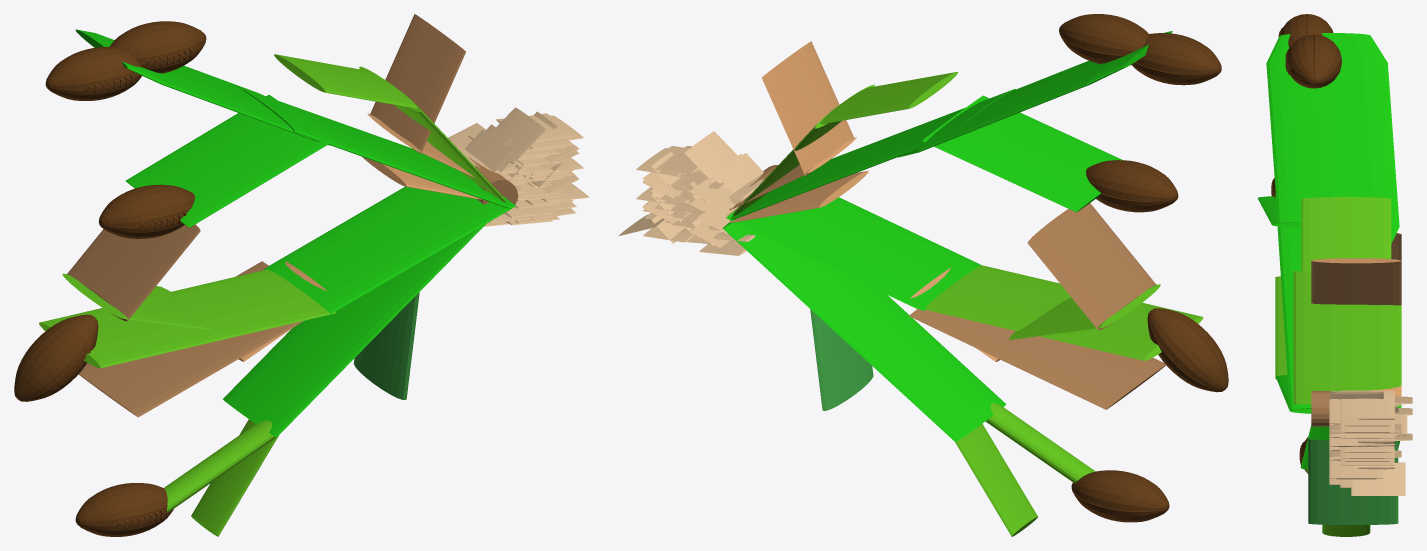
Rendered from tinker.obj.
The picture shows the model from 3 angles, left to right: view 1: azimuth 30°, elevation 25°; view 2: azimuth 150°, elevation 25°; view 3: azimuth 270°, elevation 25°; orthographic projection. The views are drawn at different scales.
Parts seen in each view (by area): view 1: group_0_1624591, group_0_6210072, group_0_6306067, group_0_11107152, group_0_14860437, group_0_14261863, group_0_4634443; view 2: group_0_1624591, group_0_6210072, group_0_6306067, group_0_11107152, group_0_14860437, group_0_14261863, group_0_4634443; view 3: group_0_1624591, group_0_6210072, group_0_14860437, group_0_14261863, group_0_4634443, group_0_6306067, group_0_11107152.
Boxes of the visible parts, x1=… form: group_0_1624591: x1=75, y1=29, x2=515, y2=437; group_0_6210072: x1=39, y1=54, x2=506, y2=536; group_0_6306067: x1=14, y1=21, x2=206, y2=536; group_0_11107152: x1=67, y1=157, x2=517, y2=417; group_0_14860437: x1=448, y1=107, x2=589, y2=226; group_0_14261863: x1=238, y1=14, x2=482, y2=361; group_0_4634443: x1=353, y1=292, x2=419, y2=399; group_0_1624591: x1=722, y1=31, x2=1172, y2=441; group_0_6210072: x1=733, y1=72, x2=1203, y2=536; group_0_6306067: x1=1059, y1=14, x2=1228, y2=522; group_0_11107152: x1=749, y1=165, x2=1166, y2=409; group_0_14860437: x1=618, y1=131, x2=763, y2=255; group_0_14261863: x1=729, y1=41, x2=1000, y2=361; group_0_4634443: x1=810, y1=309, x2=873, y2=410; group_0_1624591: x1=1257, y1=33, x2=1401, y2=469; group_0_6210072: x1=1275, y1=197, x2=1401, y2=536; group_0_14860437: x1=1329, y1=390, x2=1412, y2=495; group_0_14261863: x1=1311, y1=258, x2=1401, y2=407; group_0_4634443: x1=1308, y1=438, x2=1398, y2=524; group_0_6306067: x1=1271, y1=14, x2=1341, y2=473; group_0_11107152: x1=1311, y1=233, x2=1401, y2=426.
Size of the model in its own units: 83.83 by 72.72 by 21.99.
